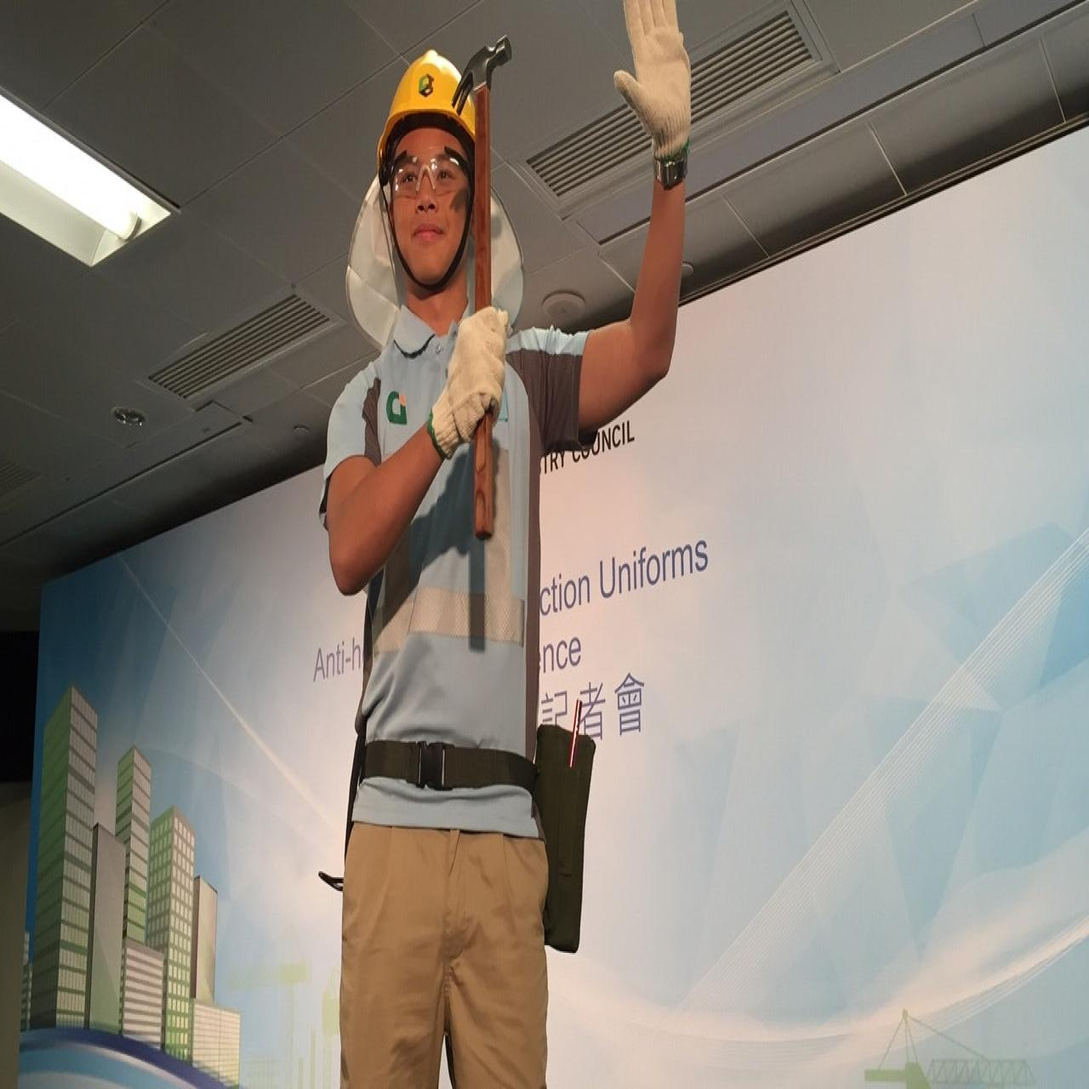NO_Safety_Vest: (322, 325, 602, 887)
Person: (231, 0, 726, 1083)
